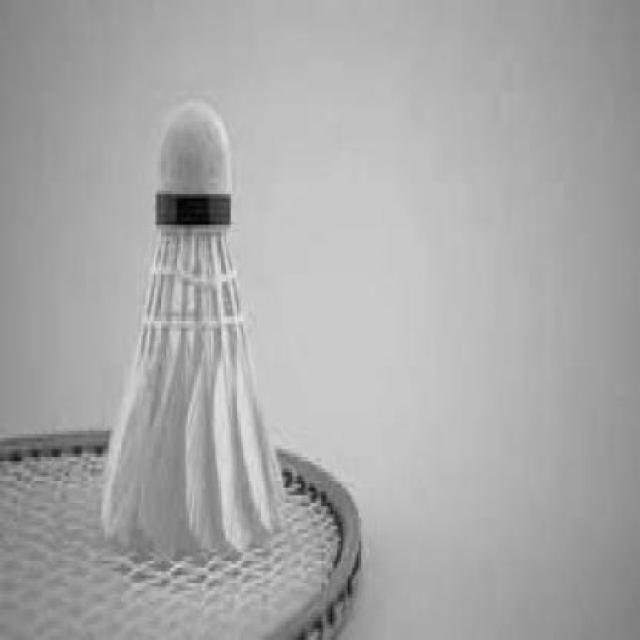Shuttlecock: (102, 103, 284, 563)
